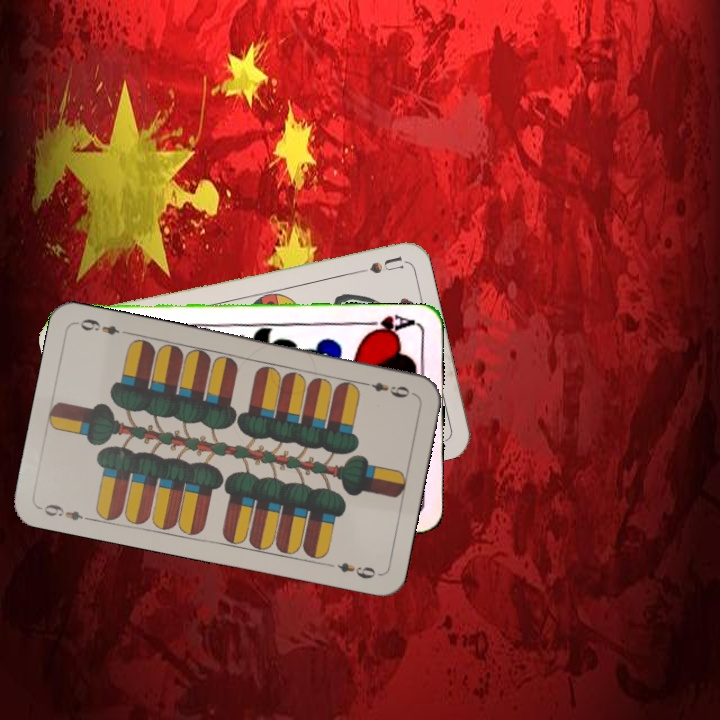E9: (36, 499, 95, 524), (357, 377, 413, 401)
HA: (359, 311, 419, 338)
SU: (345, 252, 405, 278)
